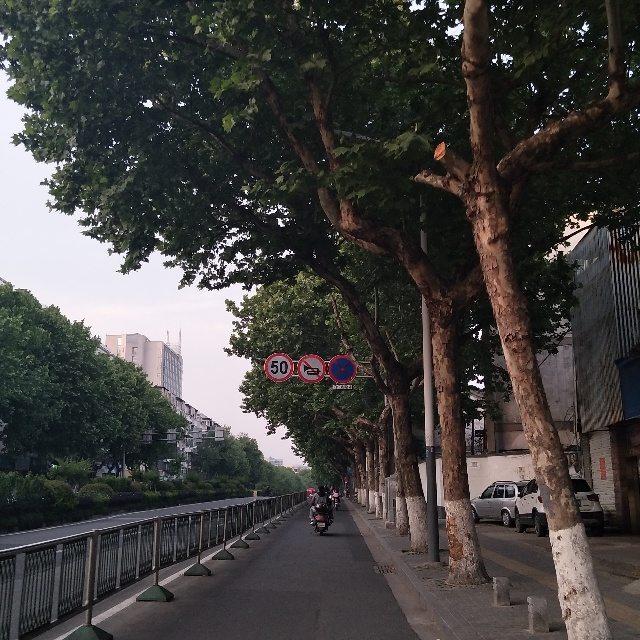nohonk: (297, 351, 326, 384)
stop: (330, 353, 360, 387)
